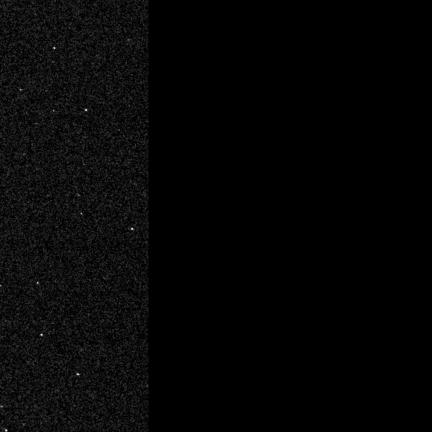blob: (37, 282, 40, 286), (40, 334, 44, 337), (85, 109, 88, 112), (131, 228, 134, 231), (77, 373, 80, 376), (54, 47, 56, 50)
